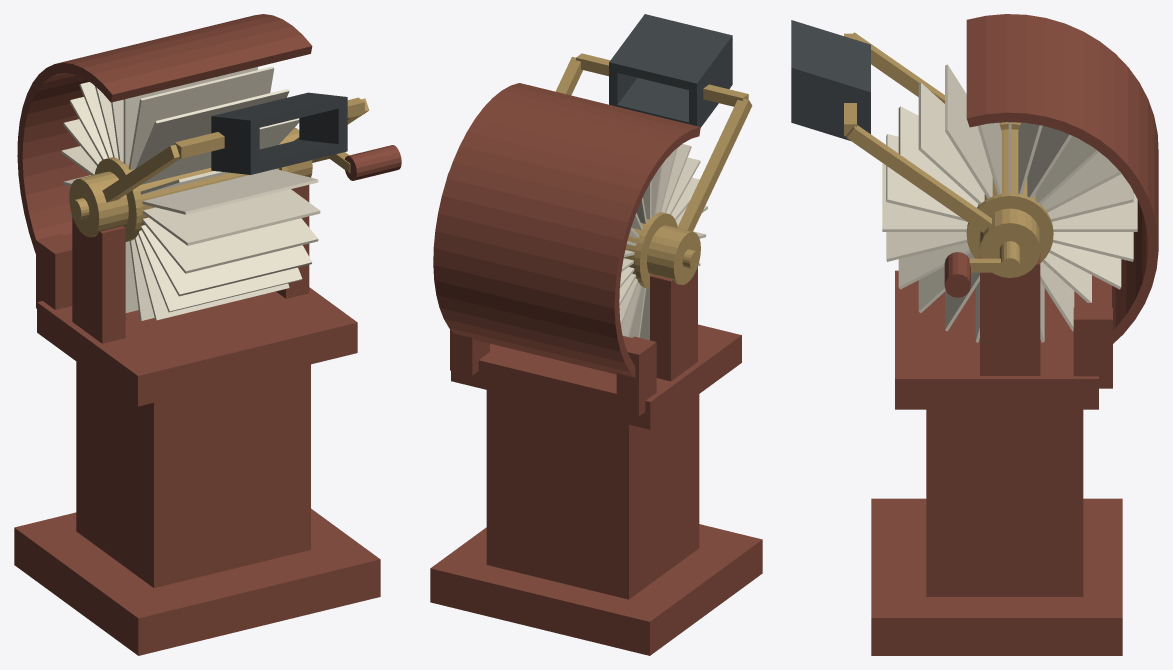
3 views of the same model, side by side, from view 1: azimuth 30°, elevation 25°; view 2: azimuth 150°, elevation 25°; view 3: azimuth 270°, elevation 25° (orthographic). The views are drawn at different scales.
Parts seen in each view (by area): view 1: WholeLowerCabinet, WholeGroundFootWidePedestal, WholeUpperCarrierDeck, WholeThickRearArchedCutawayHousing, WholeOpenFrontViewingHood, WholeBearingSideUpright_0, WholeBlankRadialCard_12, WholeBlankRadialCard_13, WholeBlankRadialCard_07, WholeBlankRadialCard_14, WholeBlankRadialCard_11, WholeBlankRadialCard_15 (+19 smaller); view 2: WholeThickRearArchedCutawayHousing, WholeLowerCabinet, WholeGroundFootWidePedestal, WholeUpperCarrierDeck, WholeOpenFrontViewingHood, WholeBearingSideUpright_0, WholeRearHousingRoot_0, WholeFrontHoodSideStay_0, WholeCircularBearingBoss_0, WholeRearHousingRoot_1, WholeCardPackEndShoulder_0, WholeBlankRadialCard_09 (+5 smaller); view 3: WholeLowerCabinet, WholeThickRearArchedCutawayHousing, WholeGroundFootWidePedestal, WholeUpperCarrierDeck, WholeOpenFrontViewingHood, WholeBearingSideUpright_1, WholeBlankRadialCard_09, WholeRearHousingRoot_1, WholeFrontHoodSideStay_1, WholeBlankRadialCard_08, WholeCircularBearingBoss_1, WholeCardPackEndShoulder_1 (+24 smaller).
Part boxes in pixels (x1=…): WholeLowerCabinet: x1=76, y1=361, x2=310, y2=587; WholeGroundFootWidePedestal: x1=14, y1=508, x2=380, y2=655; WholeUpperCarrierDeck: x1=37, y1=287, x2=357, y2=406; WholeThickRearArchedCutawayHousing: x1=17, y1=14, x2=312, y2=253; WholeOpenFrontViewingHood: x1=211, y1=92, x2=347, y2=174; WholeBearingSideUpright_0: x1=72, y1=216, x2=125, y2=343; WholeBlankRadialCard_12: x1=143, y1=189, x2=320, y2=245; WholeBlankRadialCard_13: x1=142, y1=217, x2=318, y2=273; WholeBlankRadialCard_07: x1=128, y1=66, x2=274, y2=169; WholeBlankRadialCard_14: x1=140, y1=225, x2=312, y2=296; WholeBlankRadialCard_11: x1=142, y1=169, x2=318, y2=214; WholeBlankRadialCard_15: x1=138, y1=230, x2=302, y2=312; WholeThickRearArchedCutawayHousing: x1=433, y1=83, x2=700, y2=377; WholeLowerCabinet: x1=486, y1=390, x2=699, y2=599; WholeGroundFootWidePedestal: x1=430, y1=524, x2=762, y2=655; WholeUpperCarrierDeck: x1=451, y1=324, x2=741, y2=429; WholeOpenFrontViewingHood: x1=609, y1=14, x2=732, y2=127; WholeBearingSideUpright_0: x1=650, y1=266, x2=697, y2=381; WholeRearHousingRoot_0: x1=616, y1=336, x2=656, y2=416; WholeFrontHoodSideStay_0: x1=677, y1=98, x2=752, y2=231; WholeCircularBearingBoss_0: x1=647, y1=225, x2=700, y2=284; WholeRearHousingRoot_1: x1=450, y1=329, x2=489, y2=375; WholeCardPackEndShoulder_0: x1=635, y1=212, x2=677, y2=288; WholeBlankRadialCard_09: x1=661, y1=144, x2=691, y2=212; WholeLowerCabinet: x1=926, y1=409, x2=1083, y2=596; WholeThickRearArchedCutawayHousing: x1=966, y1=14, x2=1158, y2=343; WholeGroundFootWidePedestal: x1=871, y1=498, x2=1122, y2=655; WholeUpperCarrierDeck: x1=895, y1=270, x2=1098, y2=409; WholeOpenFrontViewingHood: x1=791, y1=20, x2=870, y2=140; WholeBearingSideUpright_1: x1=980, y1=253, x2=1040, y2=375; WholeBlankRadialCard_09: x1=918, y1=82, x2=984, y2=204; WholeRearHousingRoot_1: x1=1073, y1=307, x2=1112, y2=388; WholeFrontHoodSideStay_1: x1=846, y1=125, x2=991, y2=232; WholeBlankRadialCard_08: x1=945, y1=64, x2=992, y2=198; WholeCircularBearingBoss_1: x1=979, y1=208, x2=1040, y2=277; WholeCardPackEndShoulder_1: x1=966, y1=193, x2=1053, y2=262.
Bounding box in the file's own units: 0.668 × 1.16 × 0.7019.
